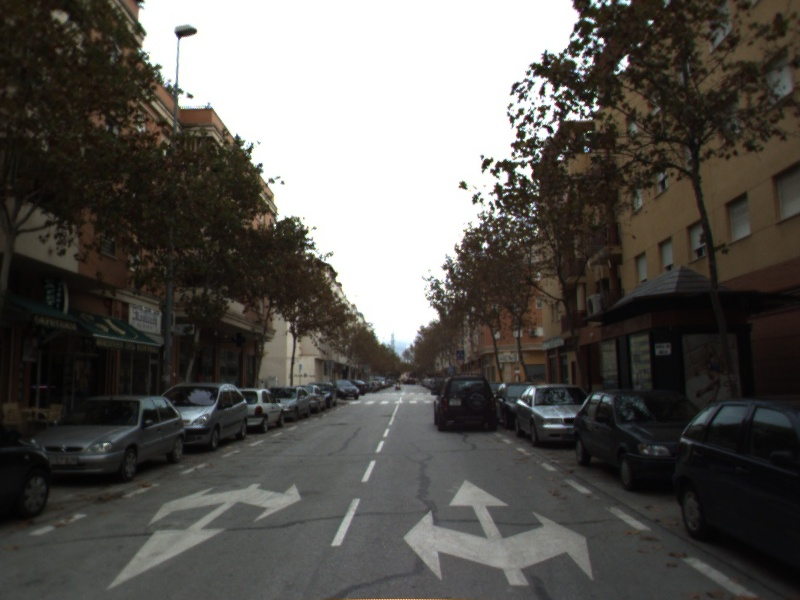STRAIGHT_LEFT_RIGHT: (400, 476, 595, 588)
